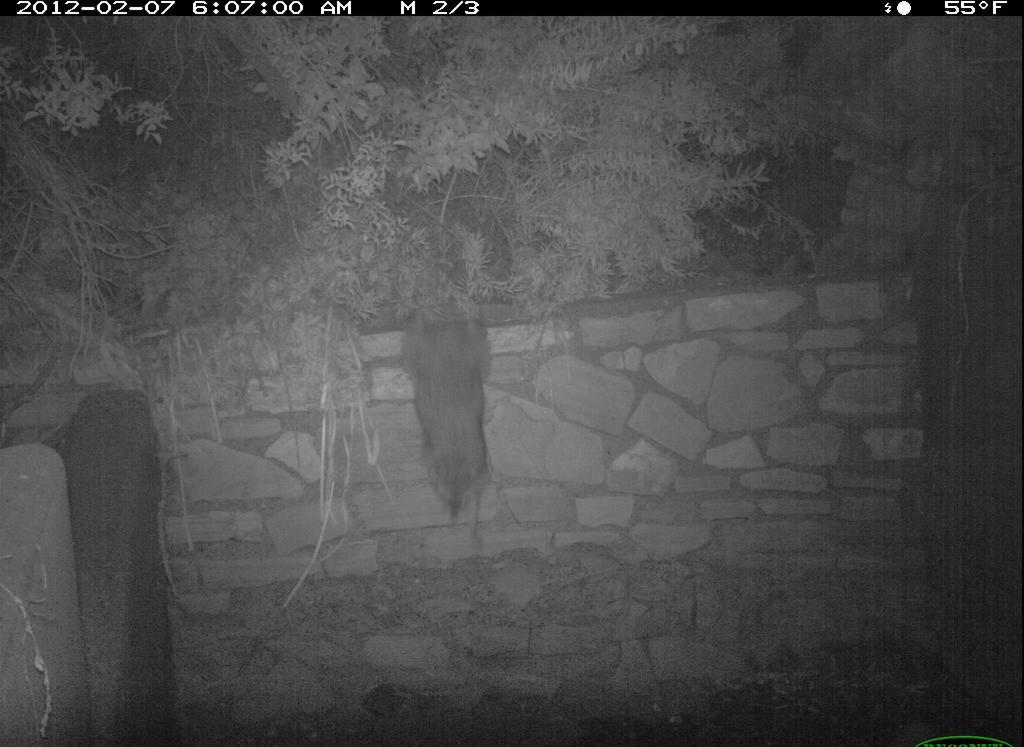raccoon: (396, 291, 519, 520)
